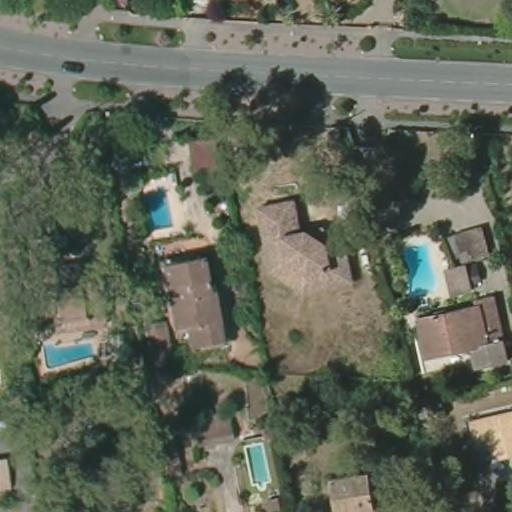pool: (391, 237, 442, 296), (40, 336, 97, 366), (141, 183, 175, 230), (244, 438, 274, 488)
